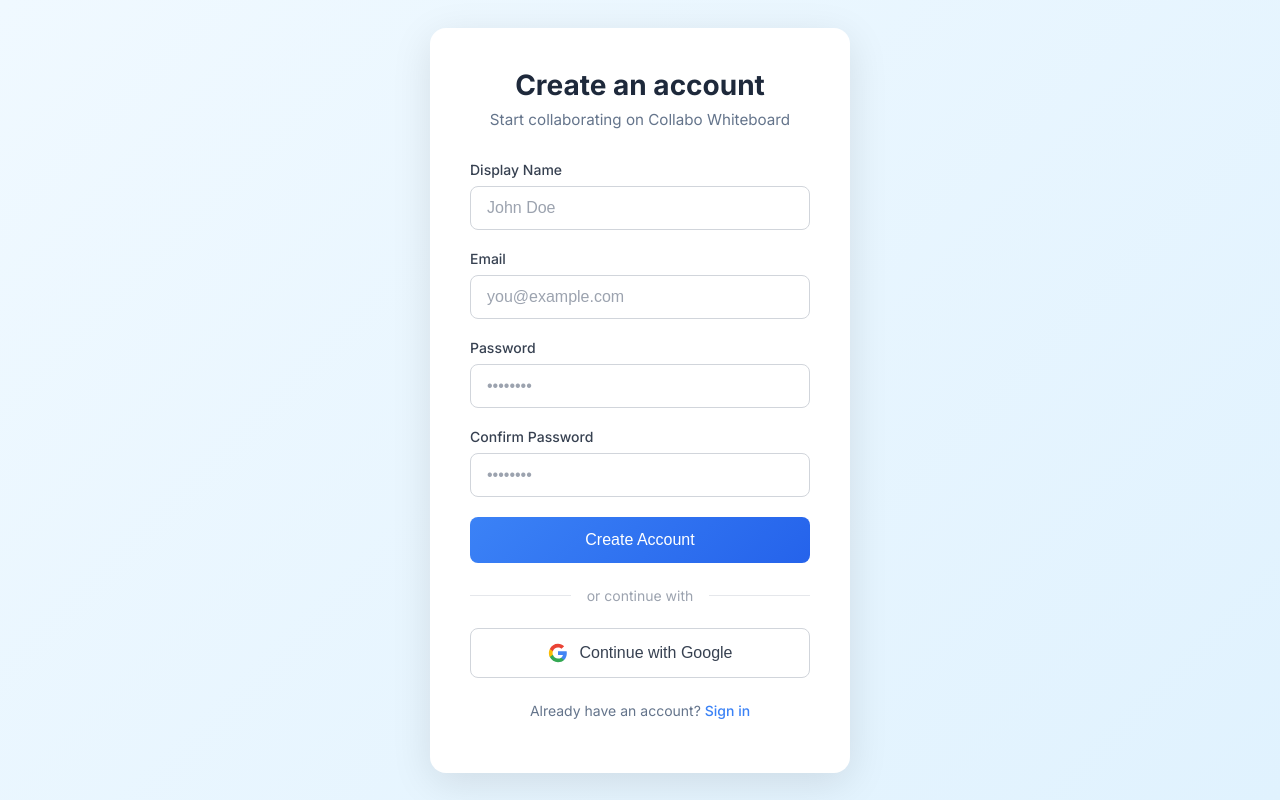
Test: Signup Component › Form Submission › shows success message after signup
In the field labelled "Display Name": (640, 208) [470,186,810,230], type "Test User"
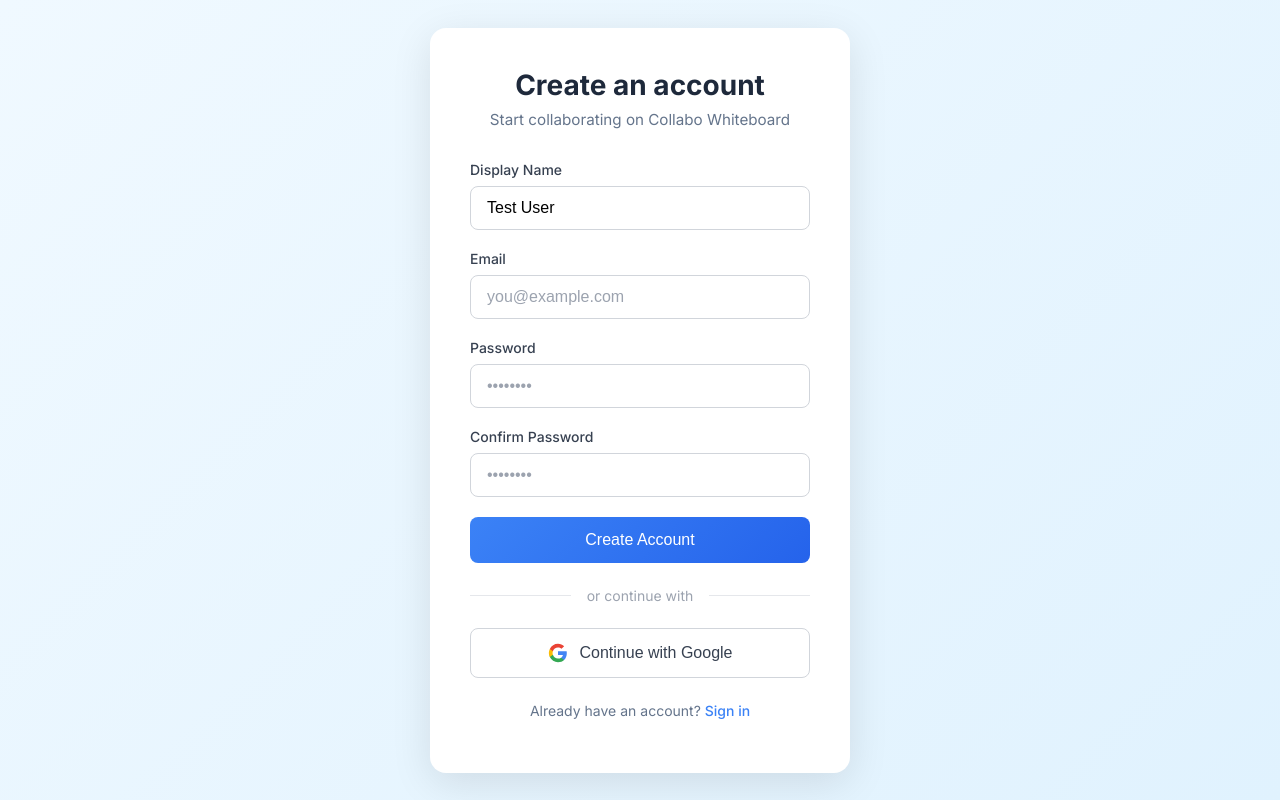
In the field labelled "Email": (640, 296) [470,274,810,318], type "new@example.com"
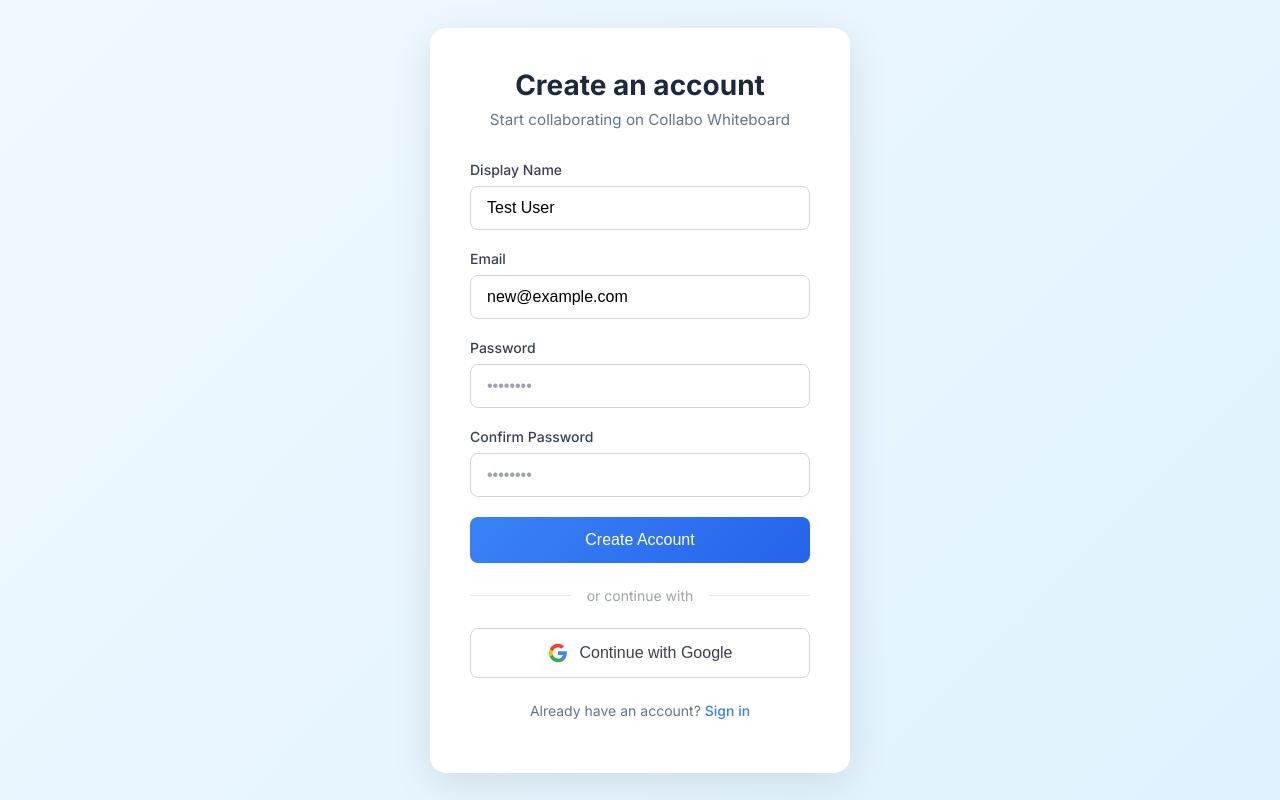
In the password field labelled "Password": (640, 386) [470,364,810,408], type "password123"
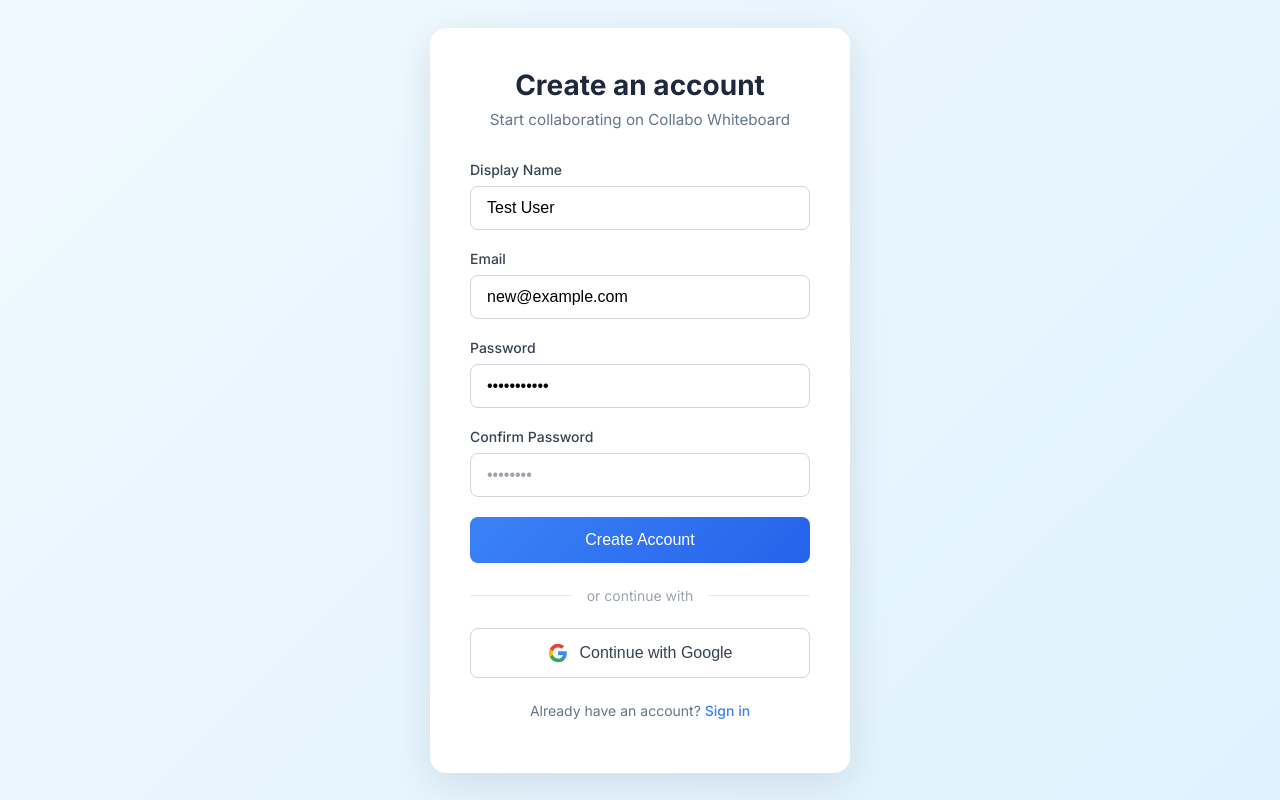
In the password field labelled "Confirm Password": (640, 474) [470,452,810,496], type "password123"
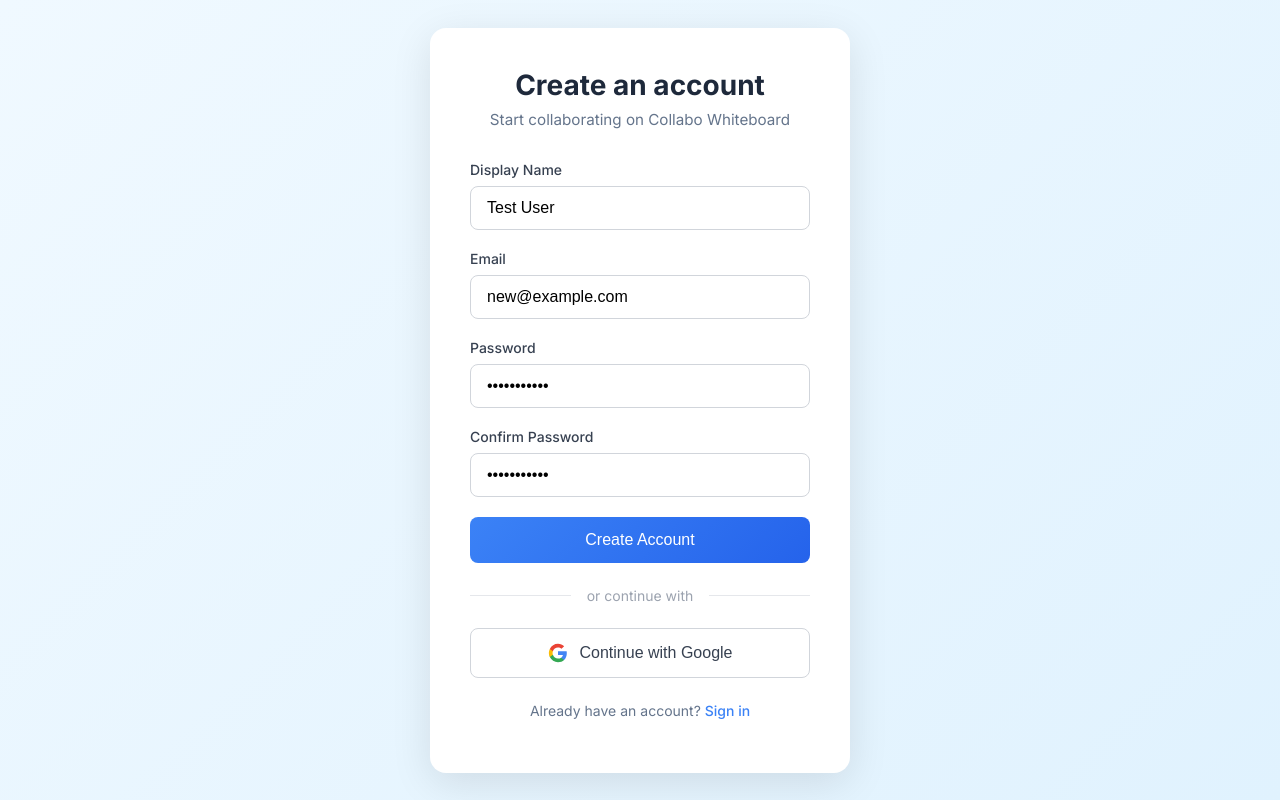
Click the button "Create Account": (640, 540) [470,516,810,562]
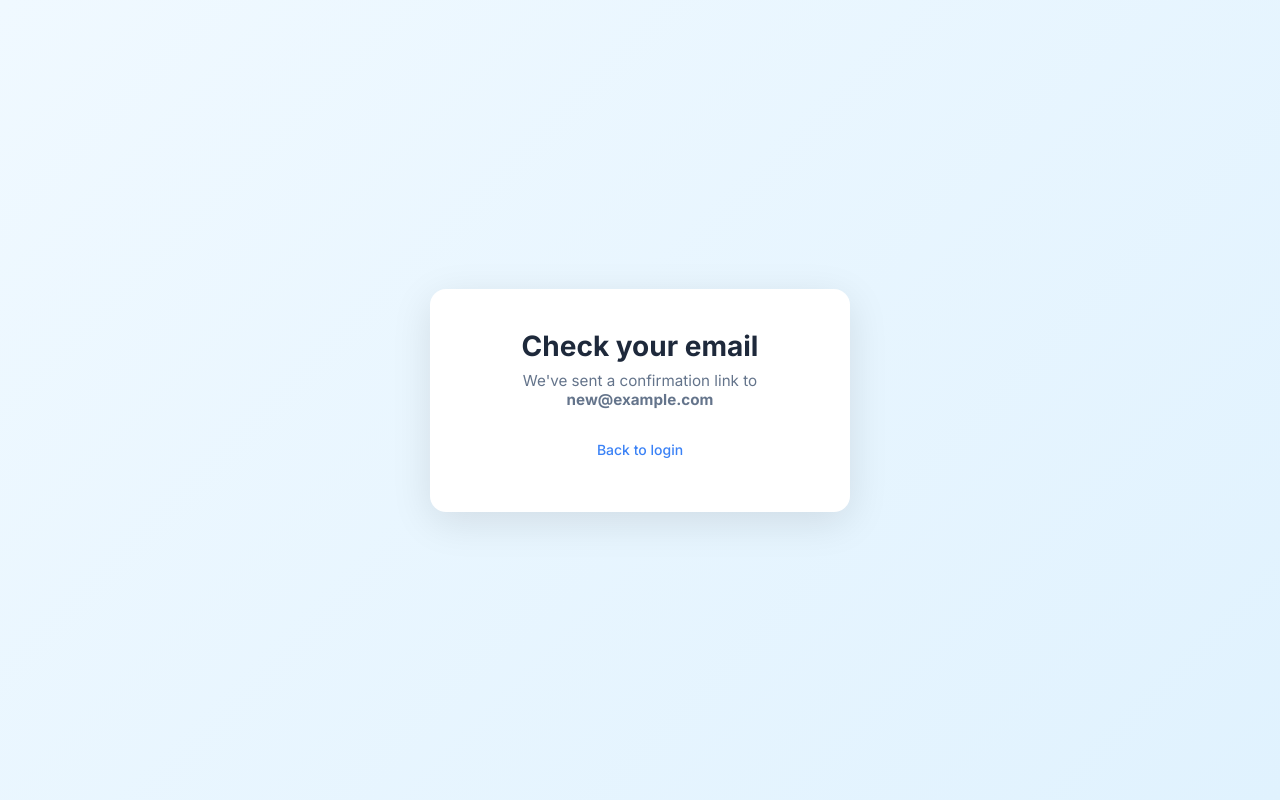
Result: the heading "Check your email" is shown at [522,328,758,362]
